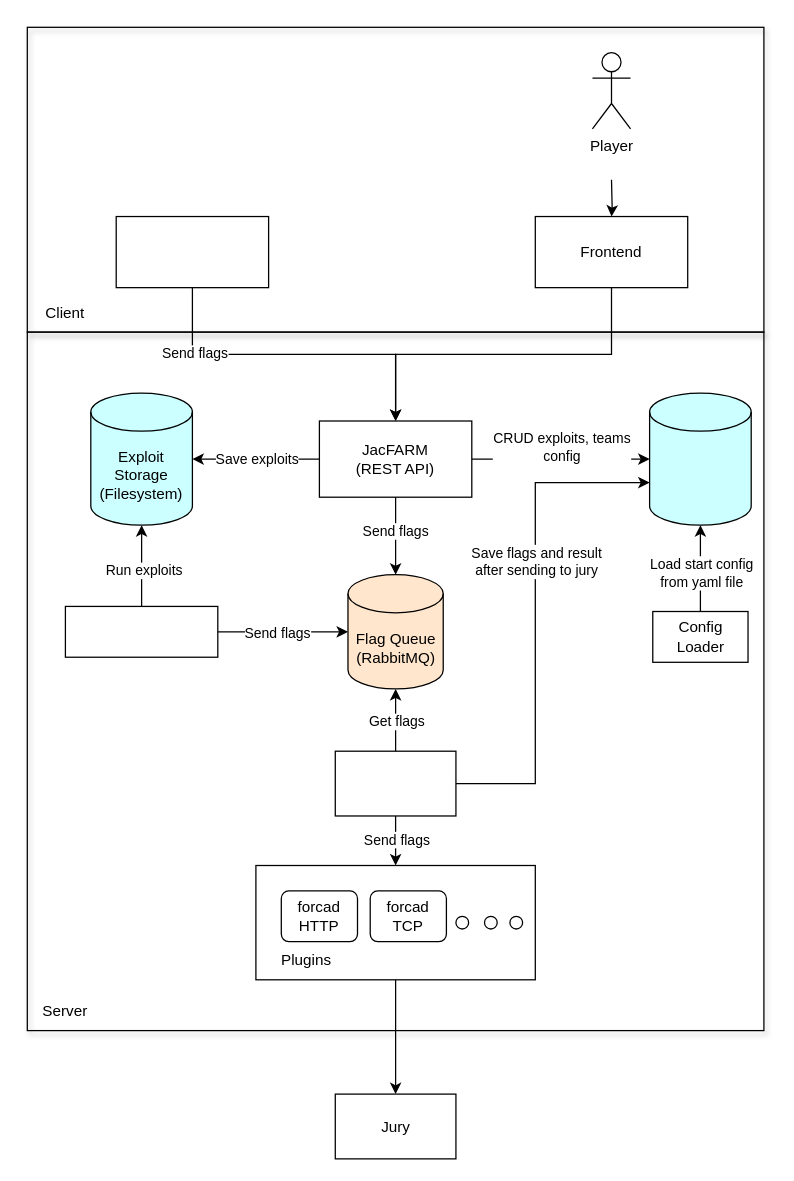
This 794x1181 diagram has some shape labels left out. Each missing label, with the centre of its shape:
"Exploit Runner" belongs at point (141, 631).
"Flag Sender" belongs at point (395, 783).
"start_exploit.py" belongs at point (192, 251).
"Storage (Postgres)" belongs at point (699, 458).
